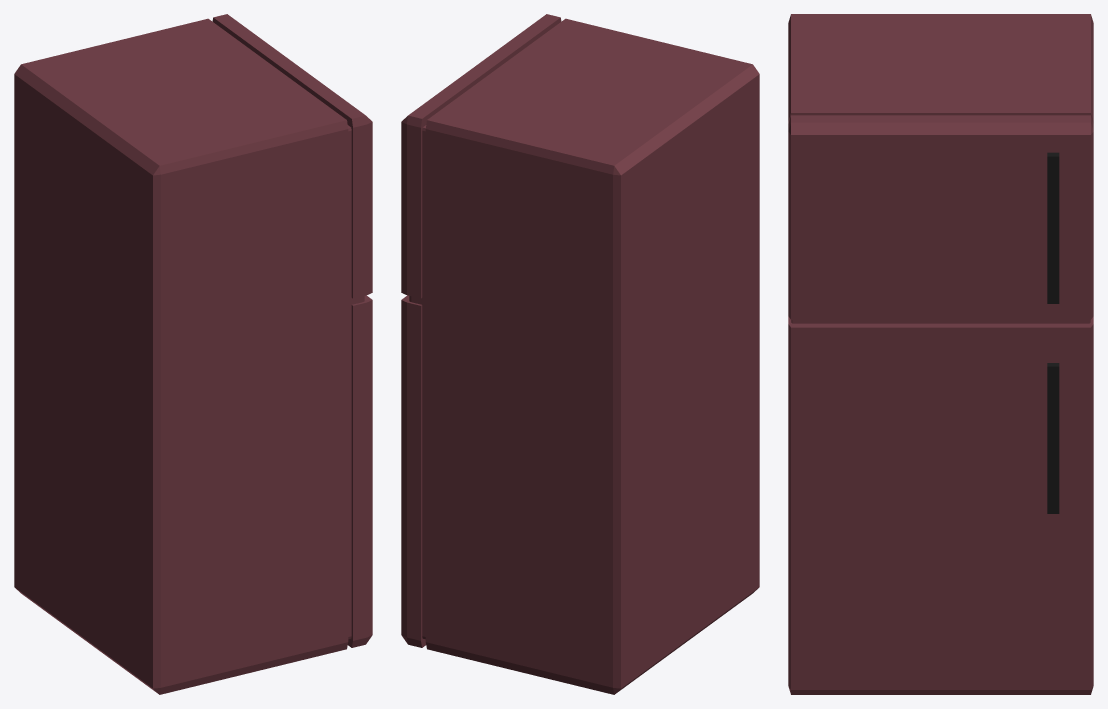
The model's file is Cocina_Refri_14.fbx.
The picture shows the model from 3 angles, left to right: view 1: azimuth 30°, elevation 25°; view 2: azimuth 150°, elevation 25°; view 3: azimuth 270°, elevation 25°; orthographic projection. The views are drawn at different scales.
Visible parts, largest first — view 1: refri; view 2: refri; view 3: refri.
Boxes of the visible parts, x1,y1,x2,y2 form: refri: (14, 14, 372, 694); refri: (401, 14, 759, 694); refri: (788, 14, 1093, 694).
Size of the model in its own units: 77.24 by 172 by 83.11.
Materials: 2 (2 with a texture image).
